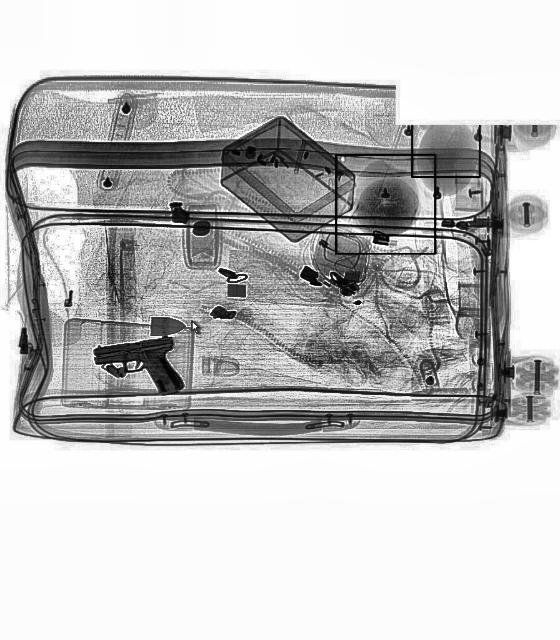Gun: (90, 336, 182, 404)
